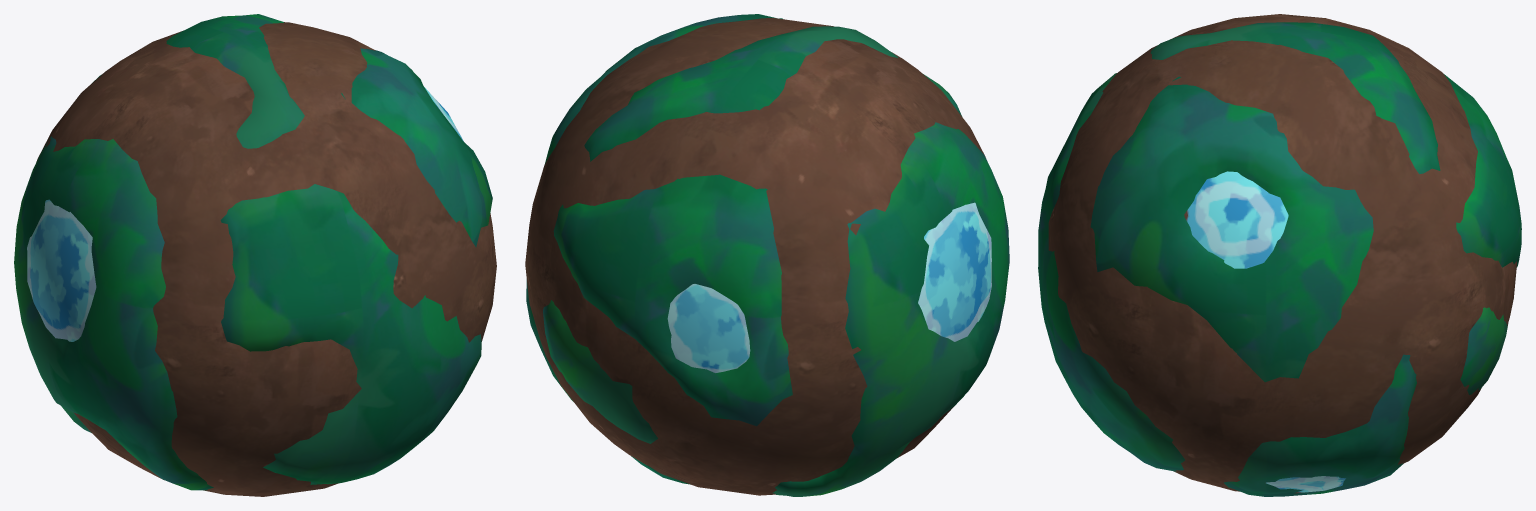
File: Planet_Low 1.fbx
3 renders of one model, left to right at view 1: azimuth 30°, elevation 25°; view 2: azimuth 150°, elevation 25°; view 3: azimuth 270°, elevation 25°, orthographic.
Parts seen in each view (by area): view 1: Planet_Base_high001, Planet; view 2: Planet, Planet_Base_high001; view 3: Planet, Planet_Base_high001.
Boxes of the visible parts, x1=… form: Planet_Base_high001: x1=14, y1=14, x2=492, y2=490; Planet: x1=27, y1=22, x2=496, y2=496; Planet: x1=525, y1=18, x2=991, y2=495; Planet_Base_high001: x1=526, y1=14, x2=1009, y2=496; Planet: x1=1048, y1=14, x2=1516, y2=493; Planet_Base_high001: x1=1038, y1=22, x2=1521, y2=496.
Bounding box in the file's own units: 51.6 × 51.67 × 51.97.
